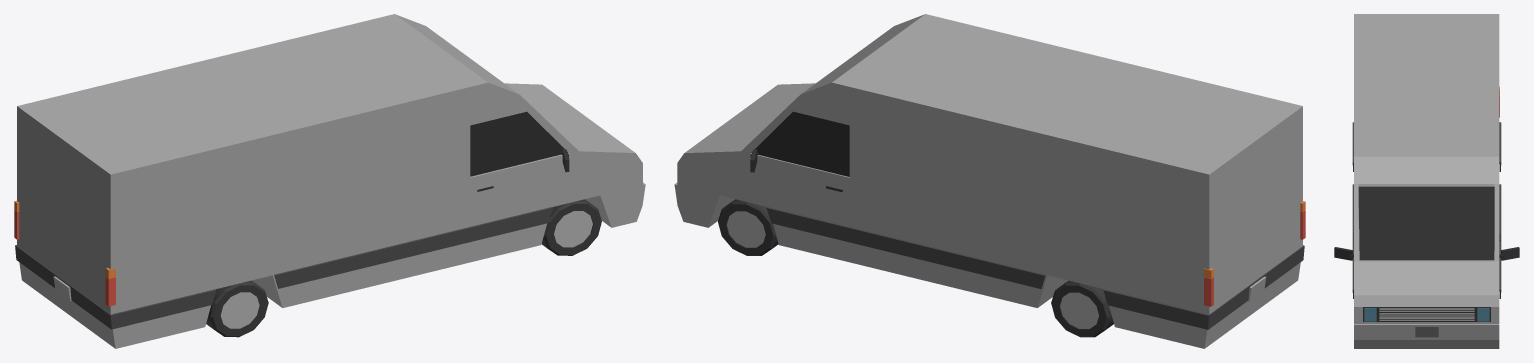
Rendered from Car_huoche.fbx.
The picture shows the model from 3 angles, left to right: view 1: azimuth 30°, elevation 25°; view 2: azimuth 150°, elevation 25°; view 3: azimuth 270°, elevation 25°; orthographic projection. The views are drawn at different scales.
Visible parts, largest first — view 1: Car_huoche; view 2: Car_huoche; view 3: Car_huoche.
Part boxes in pixels (left/top/right/bottom): Car_huoche: left=14, top=14, right=645, bottom=348; Car_huoche: left=674, top=14, right=1305, bottom=348; Car_huoche: left=1334, top=14, right=1519, bottom=348.
Bounding box in the file's own units: 8.26 × 2.89 × 3.18.
